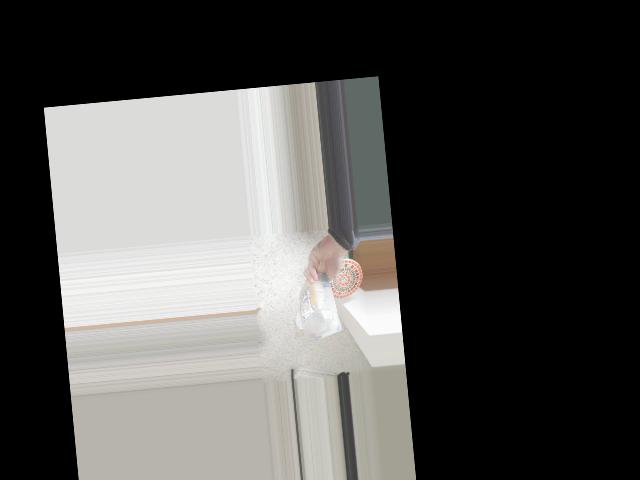cheese: (296, 273, 339, 342)
